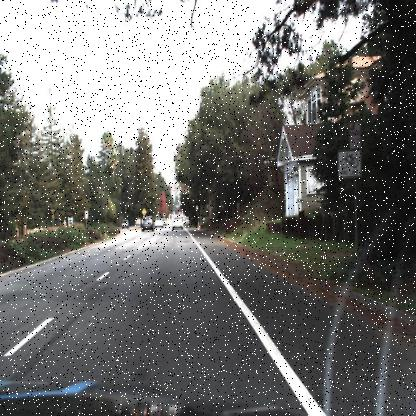car: (139, 212, 157, 235), (169, 212, 185, 232), (153, 212, 165, 231), (120, 215, 131, 233)
